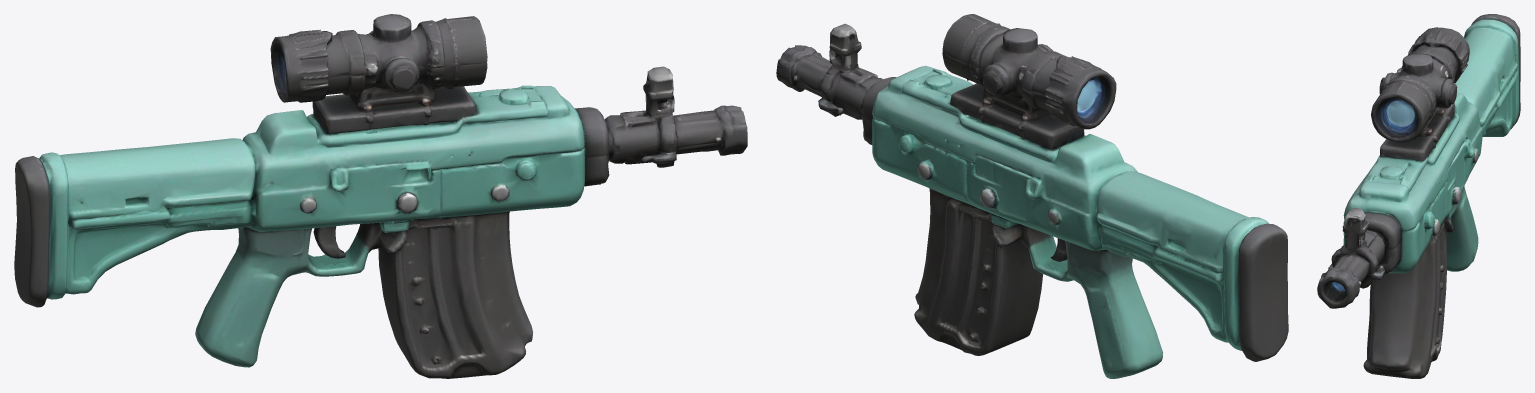
The picture shows the model from 3 angles, left to right: view 1: azimuth 30°, elevation 25°; view 2: azimuth 150°, elevation 25°; view 3: azimuth 270°, elevation 25°; orthographic projection. The views are drawn at different scales.
Parts seen in each view (by area): view 1: tripo_node_2bea1a0b-bc63-495d-a200-7cc12801a616; view 2: tripo_node_2bea1a0b-bc63-495d-a200-7cc12801a616; view 3: tripo_node_2bea1a0b-bc63-495d-a200-7cc12801a616.
Boxes of the visible parts, <box> form: tripo_node_2bea1a0b-bc63-495d-a200-7cc12801a616: <box>14,14,747,378</box>; tripo_node_2bea1a0b-bc63-495d-a200-7cc12801a616: <box>776,14,1288,378</box>; tripo_node_2bea1a0b-bc63-495d-a200-7cc12801a616: <box>1317,14,1520,378</box>.
Size of the model in its own units: 0.9801 by 0.5243 by 0.3376.
Materials: 1 (1 with a texture image).
